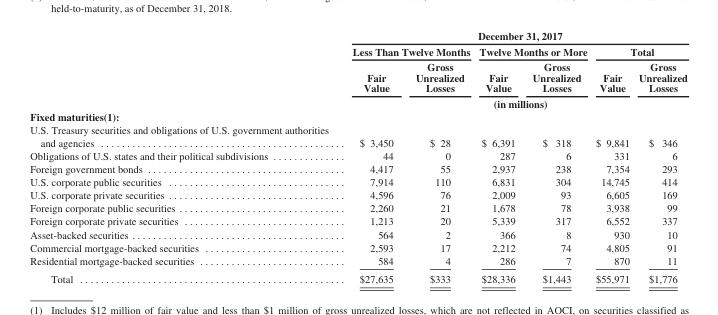table: (29, 29, 686, 284)
table column: (29, 29, 339, 284), (403, 29, 473, 284), (523, 29, 590, 284), (339, 29, 403, 284), (633, 29, 686, 284), (473, 29, 523, 284), (590, 29, 633, 284)
table column header: (29, 29, 686, 109)
table projected row header: (29, 109, 686, 122)
table row: (29, 58, 686, 95), (29, 122, 686, 148), (29, 42, 686, 58), (29, 253, 686, 269), (29, 269, 686, 284), (29, 95, 686, 109), (29, 148, 686, 162), (29, 29, 686, 42), (29, 109, 686, 122), (29, 162, 686, 175), (29, 175, 686, 188), (29, 188, 686, 201), (29, 201, 686, 214), (29, 214, 686, 227), (29, 227, 686, 240), (29, 240, 686, 253)
table spanning cell: (339, 95, 686, 109), (339, 29, 686, 42), (339, 42, 473, 58), (473, 42, 590, 58), (590, 42, 686, 58)
